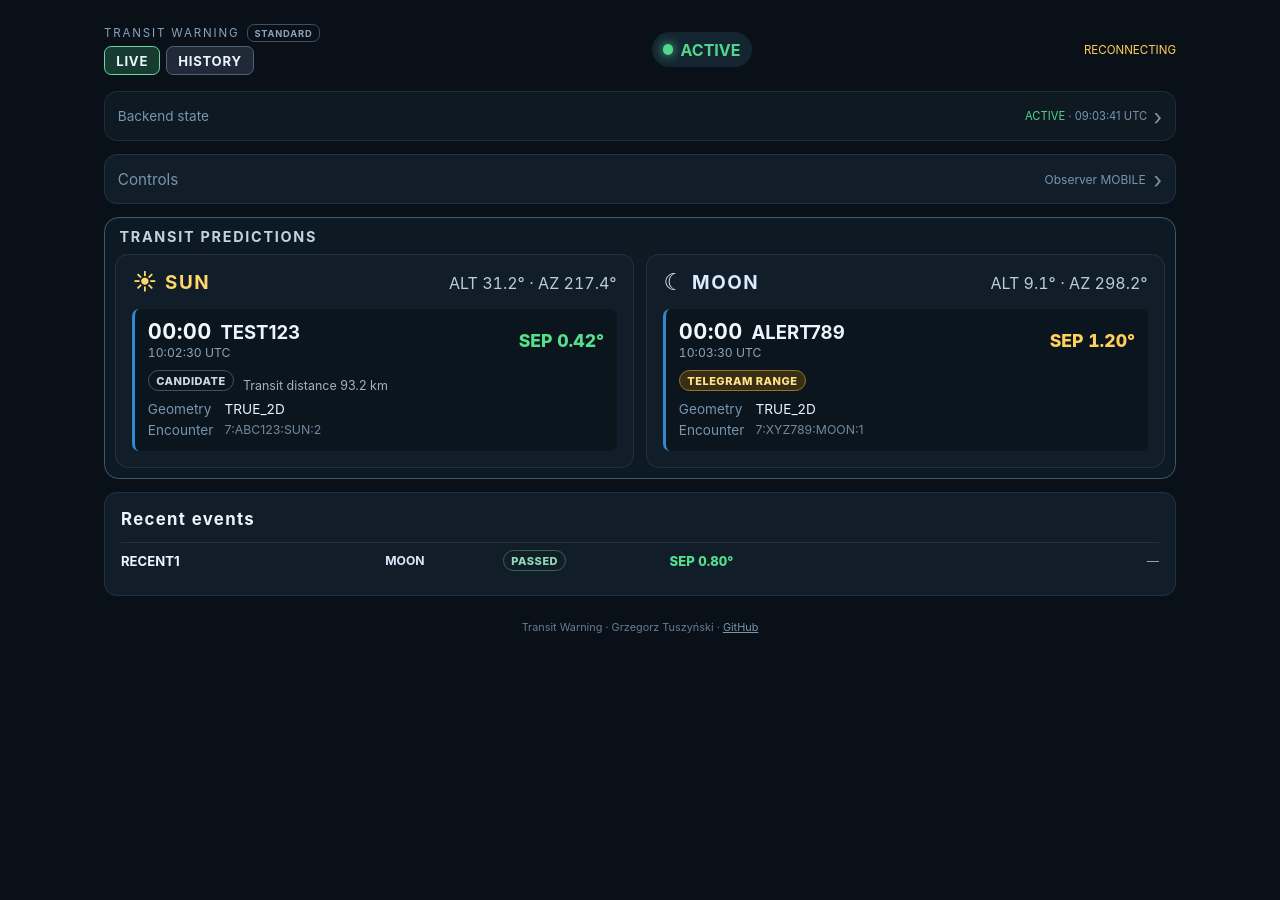
STANDARD final controls › distinguishes secure context false and geolocation availability true
The image size is (1280, 900).
Click the button with aria-label "Expand Controls panel" at (148, 179), box [105, 155, 1175, 203]
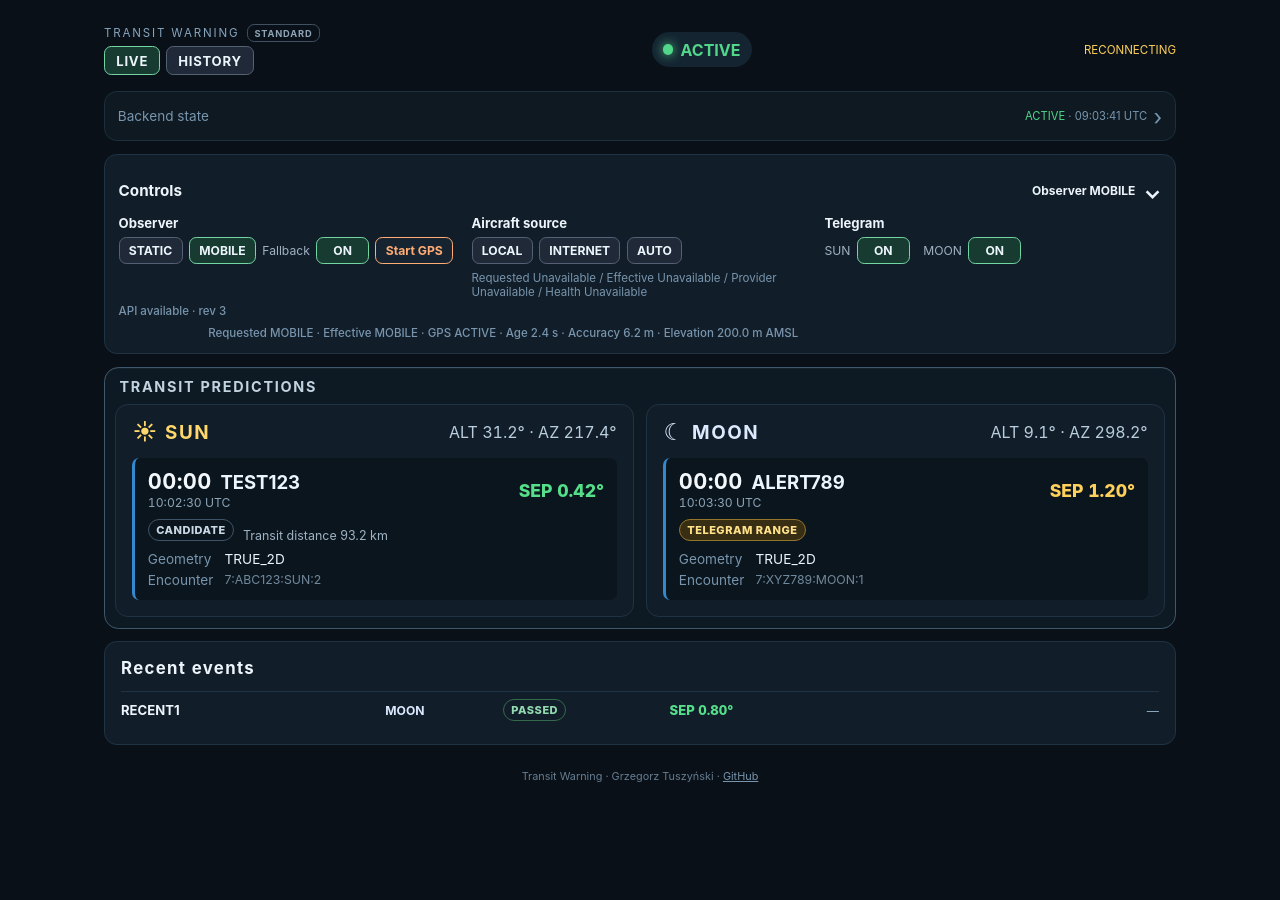
Check: the button "Start GPS" is enabled
Click the button "Start GPS" at (414, 251), box [376, 237, 453, 264]
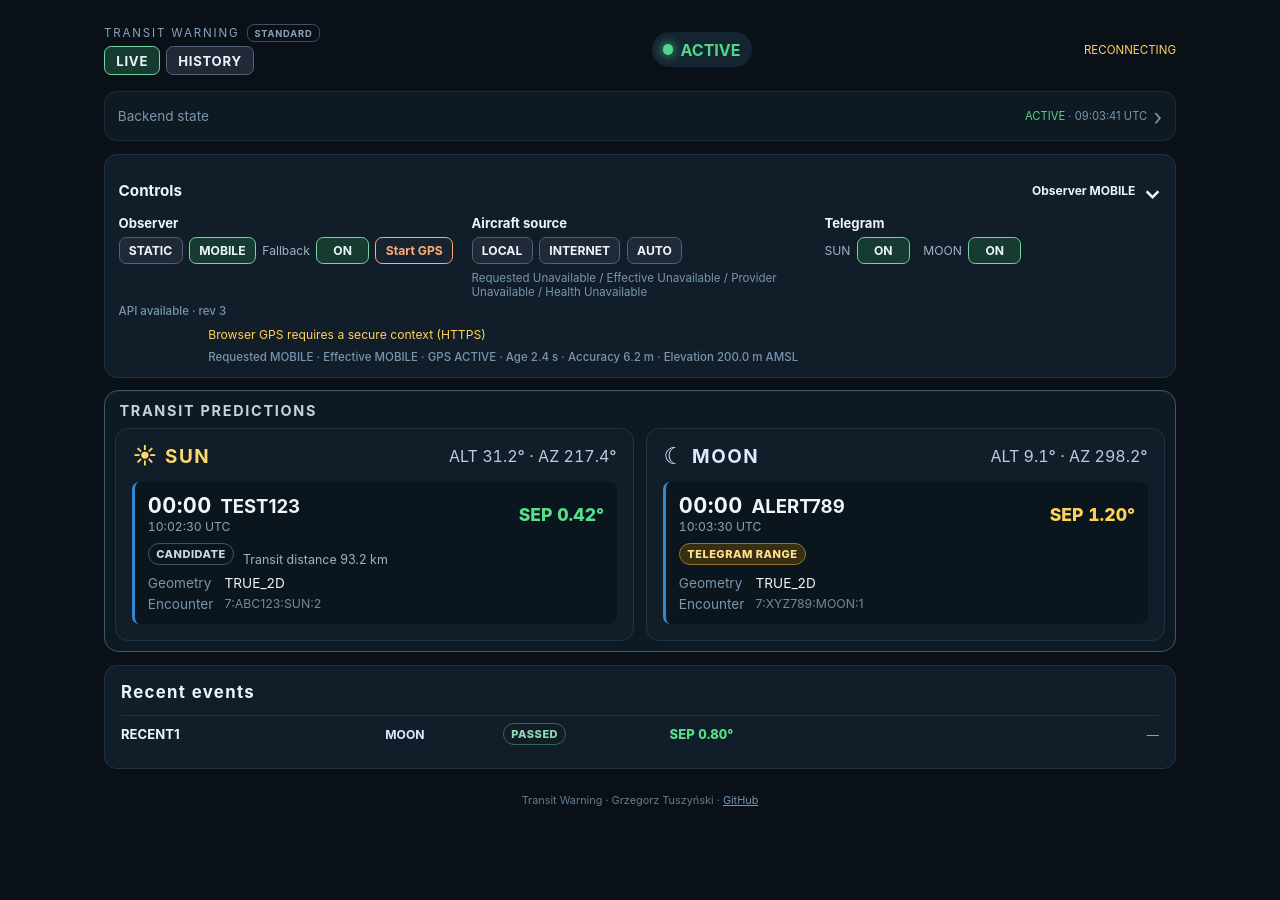
Check: the message "Browser GPS requires a secure context (HTTPS)" is shown, box [208, 327, 486, 342]
